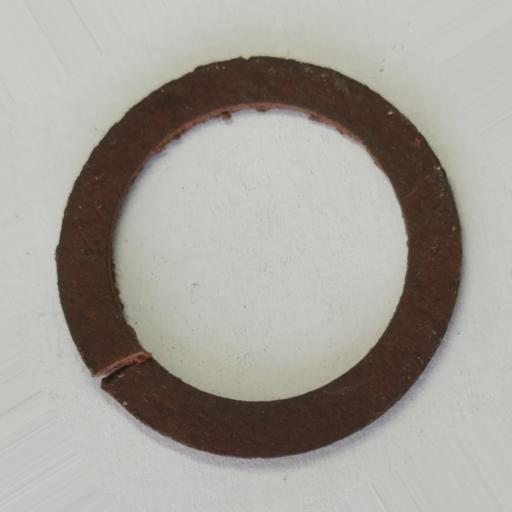defect: (94, 351, 150, 381), (397, 185, 416, 199)
